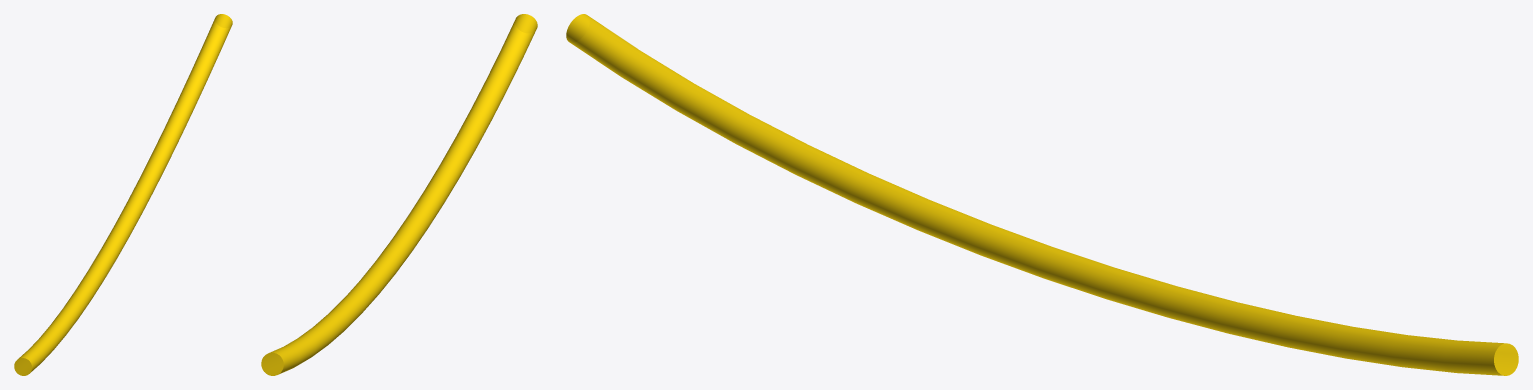
Rendered from Event_420094457_track_4.fbx.
The picture shows the model from 3 angles, left to right: view 1: azimuth 30°, elevation 25°; view 2: azimuth 210°, elevation 25°; view 3: azimuth 270°, elevation 25°; orthographic projection. The views are drawn at different scales.
Parts seen in each view (by area): view 1: Model; view 2: Model; view 3: Model.
Part boxes in pixels (left/top/right/bottom): Model: left=14, top=14, right=232, bottom=375; Model: left=261, top=14, right=537, bottom=375; Model: left=566, top=14, right=1518, bottom=375.
Size of the model in its own units: 1.18 by 0.1835 by 1.16.
